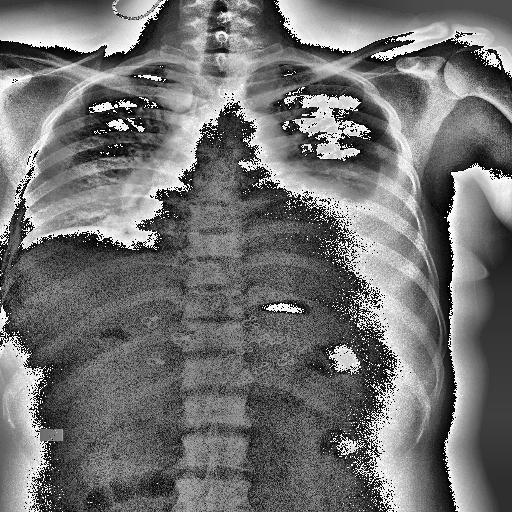0- Aortic enlargement: (229, 112, 288, 168), (222, 106, 284, 159)
10- Pleural effusion: (255, 156, 416, 259), (290, 150, 408, 250), (334, 158, 414, 254)
